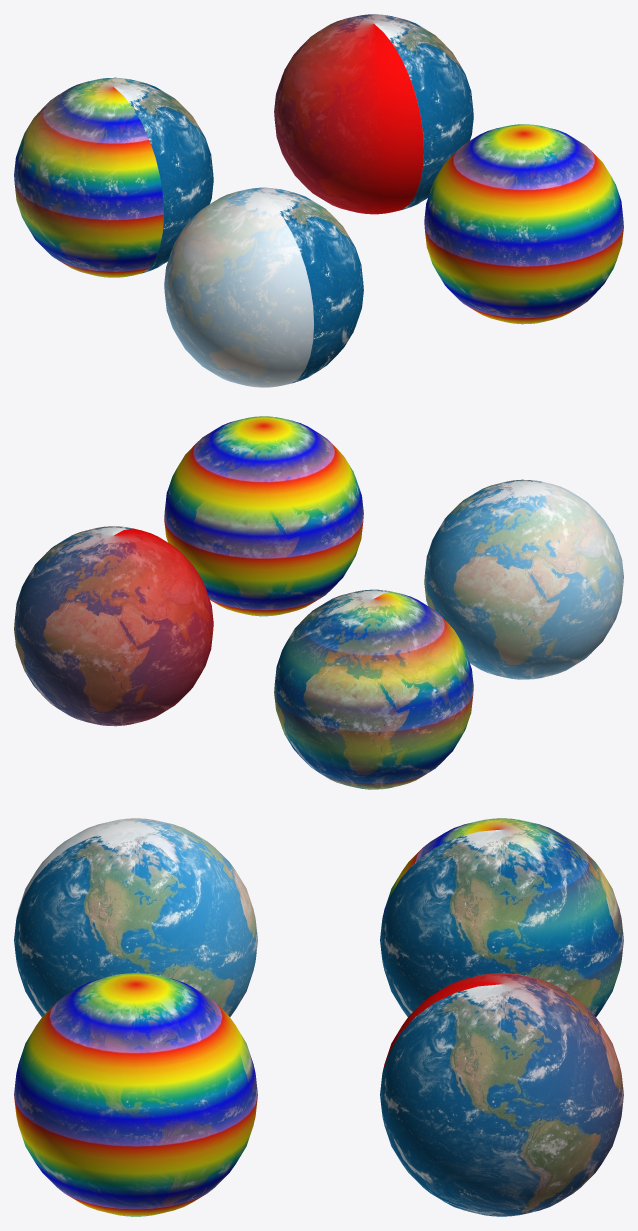
The model's file is SpecularLevel.gltf.
3 renders of one model, top to bottom at view 1: azimuth 30°, elevation 25°; view 2: azimuth 150°, elevation 25°; view 3: azimuth 270°, elevation 25°, orthographic. The views are drawn at different scales.
Visible parts, largest first — view 1: EarthTexture, EarthNoSpecLevel, EarthGlobalRed, EarthGlobalAlmostWhite; view 2: EarthGlobalAlmostWhite, EarthGlobalRed, EarthNoSpecLevel, EarthTexture; view 3: EarthGlobalRed, EarthNoSpecLevel, EarthGlobalAlmostWhite, EarthTexture.
Part boxes in pixels (x1,y1,x2,y2): EarthTexture: (164, 187, 363, 387); EarthNoSpecLevel: (424, 124, 623, 324); EarthGlobalRed: (274, 14, 473, 214); EarthGlobalAlmostWhite: (14, 77, 213, 277); EarthGlobalAlmostWhite: (274, 589, 473, 789); EarthGlobalRed: (14, 526, 213, 726); EarthNoSpecLevel: (164, 416, 363, 616); EarthTexture: (424, 479, 623, 679); EarthGlobalRed: (380, 973, 623, 1216); EarthNoSpecLevel: (14, 973, 257, 1216); EarthGlobalAlmostWhite: (380, 818, 623, 1016); EarthTexture: (14, 818, 257, 1016).
Size of the model in its own units: 100 by 40 by 100.
4 materials, 4 textured.
